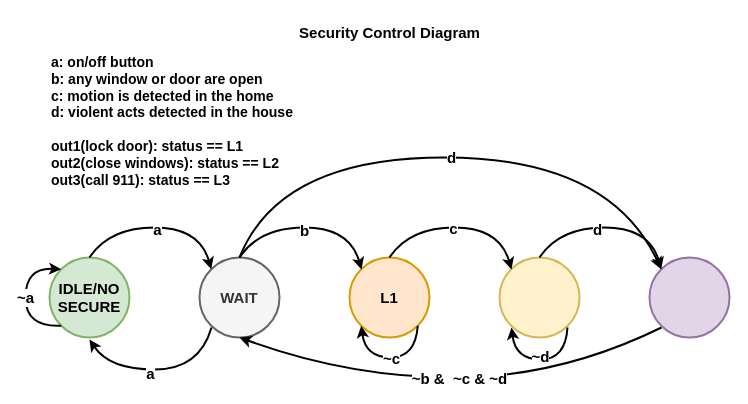
This 748x404 diagram has some shape labels left out. The shapes that lost their labels are listed below. From the top down, each one's centre as x and y in pixels, then its label:
At (x=539, y=297): "L2".
At (x=689, y=297): "L3".
